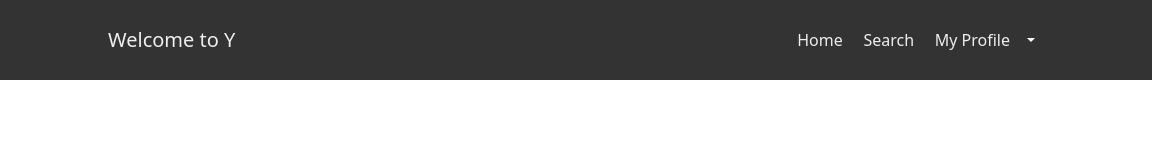
Test: NavBar Component › should logout successfully when logout button is clicked
expect the link "My Profile" is shown: met, box [935, 29, 1010, 51]
Find the Dropdown Toggle and open the Dropdown Menu
Click the 2nd button.
click(1031, 40)  # box [1018, 22, 1044, 58]
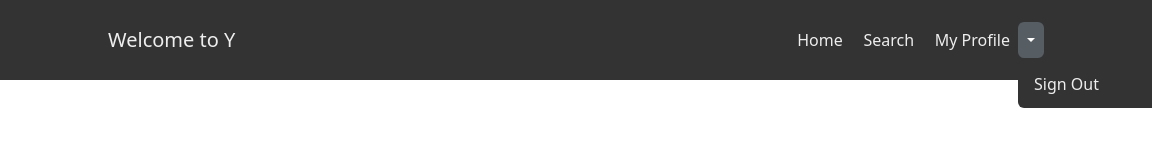
Click the button "Sign Out".
click(1066, 84)  # box [1034, 73, 1099, 95]
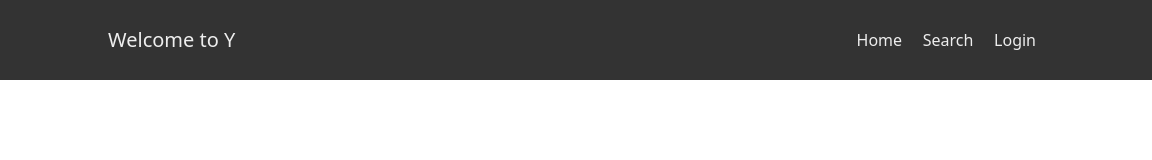
expect the link "Login" is shown: met, box [994, 29, 1036, 51]
